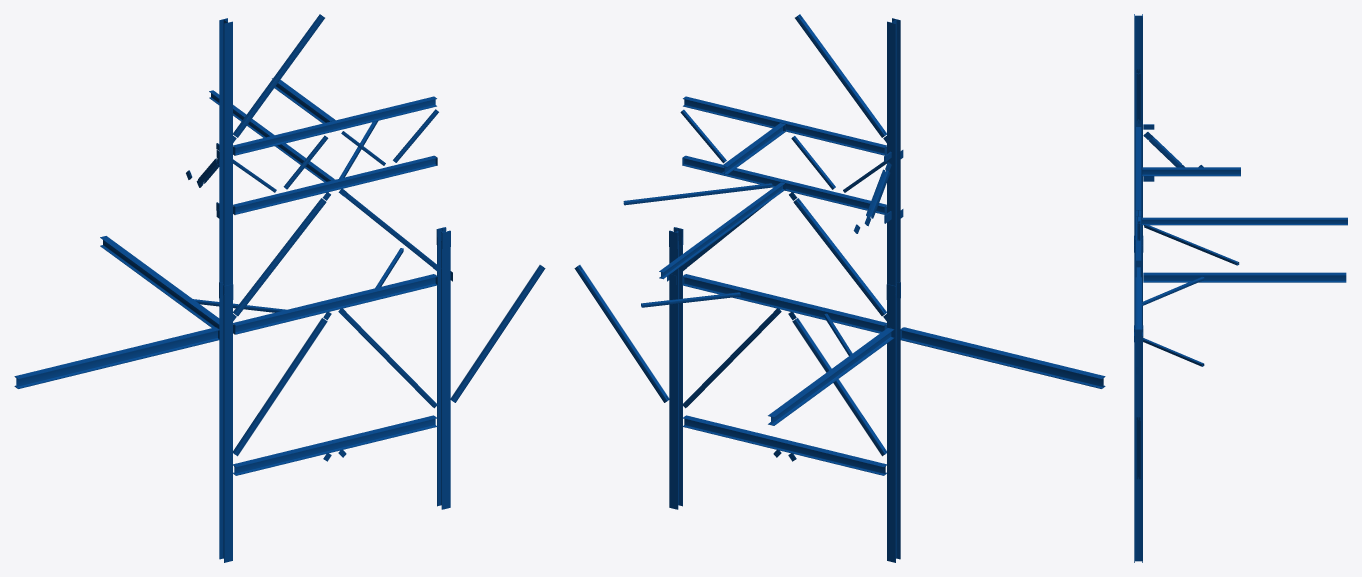
Rendered from GCC-AAV-13220-30.nwd(30).fbx.
3 views of the same model, side by side, from view 1: azimuth 30°, elevation 25°; view 2: azimuth 150°, elevation 25°; view 3: azimuth 270°, elevation 25° (orthographic). The views are drawn at different scales.
Parts seen in each view (by area): view 1: Группа фасетов (×17); view 2: Группа фасетов (×17); view 3: Группа фасетов (×13).
Part boxes in pixels (box(x1,y1,x2,y2)): Группа фасетов (×17): box(14, 14, 545, 562); Группа фасетов (×17): box(574, 14, 1105, 562); Группа фасетов (×13): box(1134, 14, 1347, 562).
Bounding box in the file's own units: 954 × 931 × 396.
